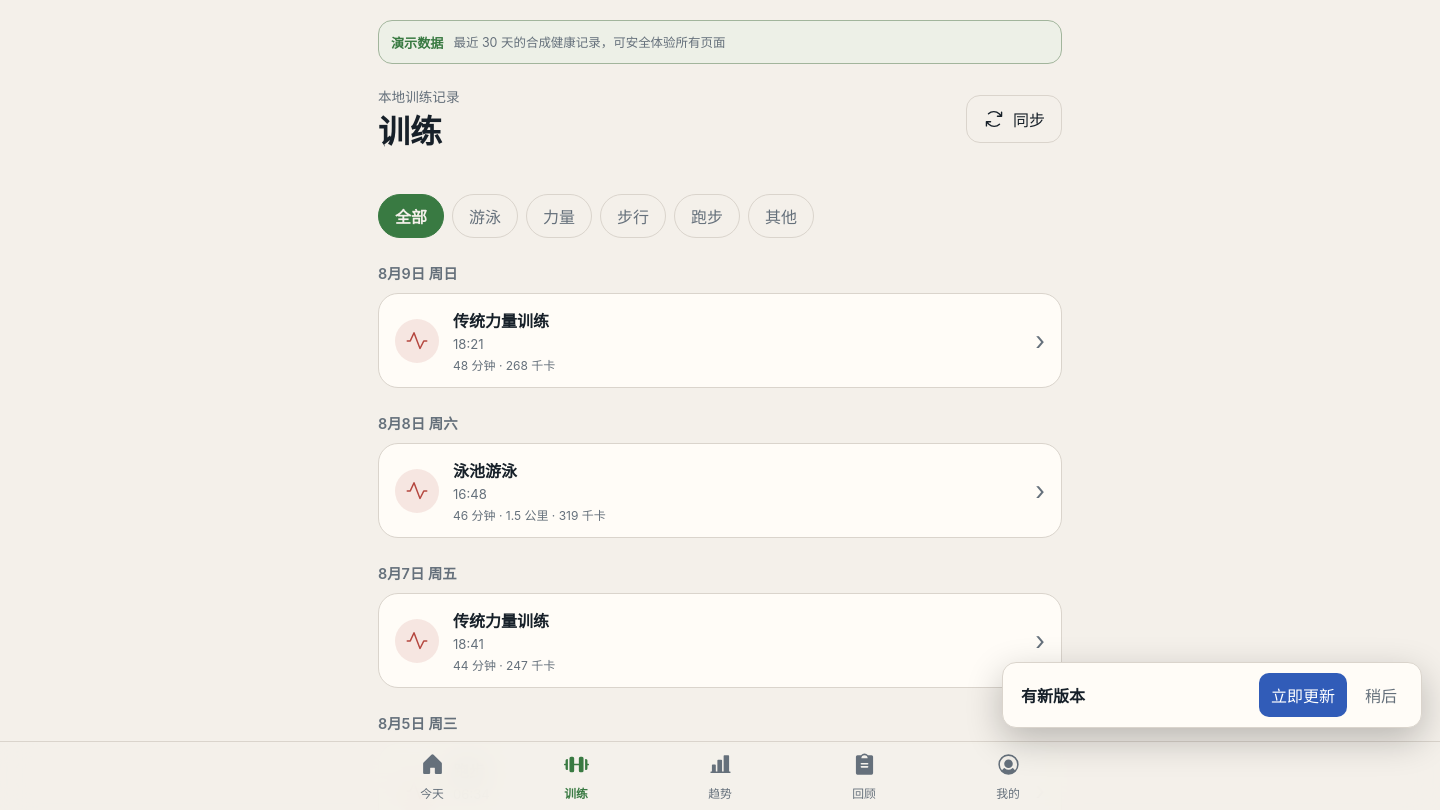
Scenario: uses real workout and trend destinations while keeping the five-tab shell
Click the button "今天": (432, 776) left=360, top=742, right=504, bottom=809
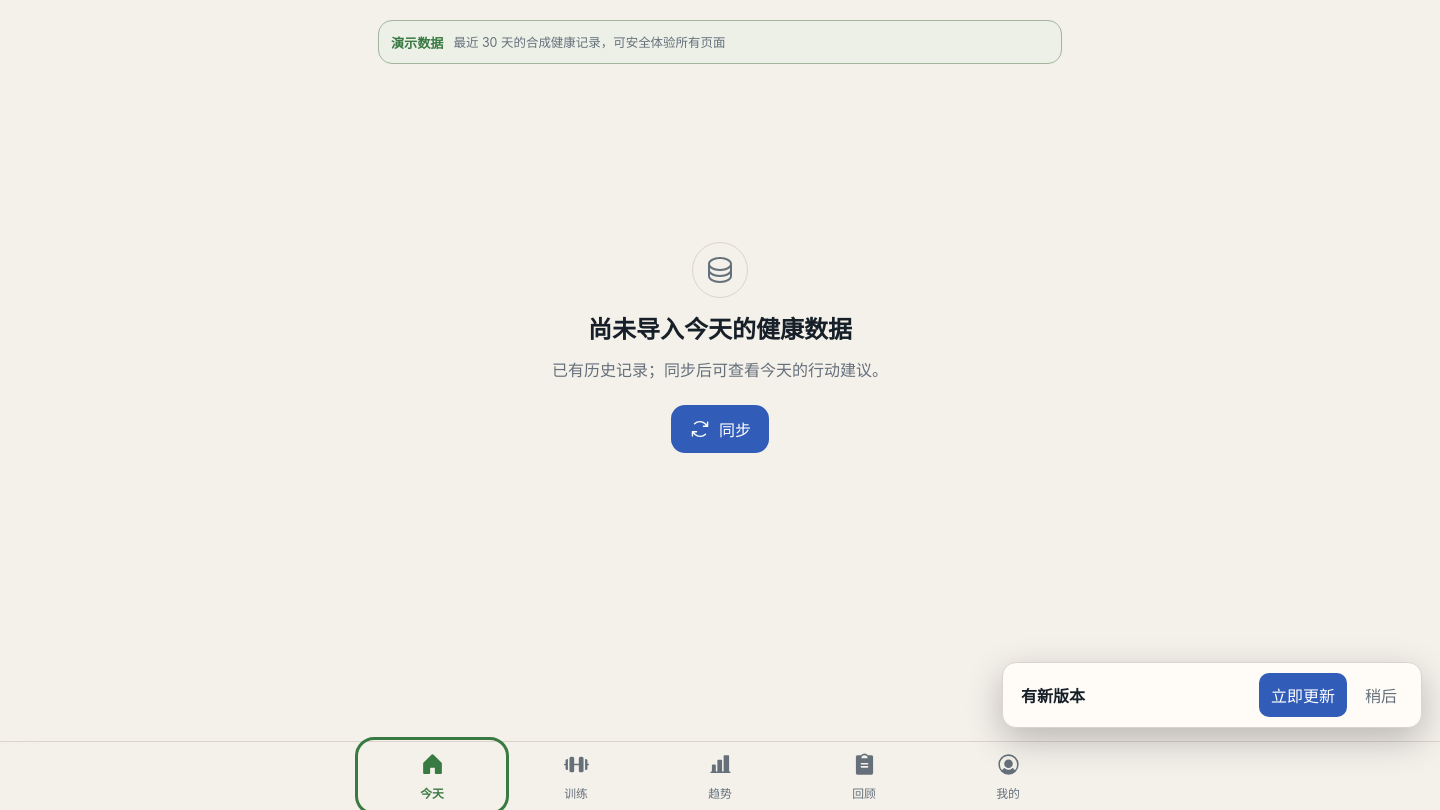
Expected: the number of navigation bars is 1, left=360, top=742, right=1080, bottom=809
Expected: the heading "尚未导入今天的健康数据" is shown, left=588, top=315, right=852, bottom=344
Click the button "训练": (576, 776) left=504, top=742, right=648, bottom=809
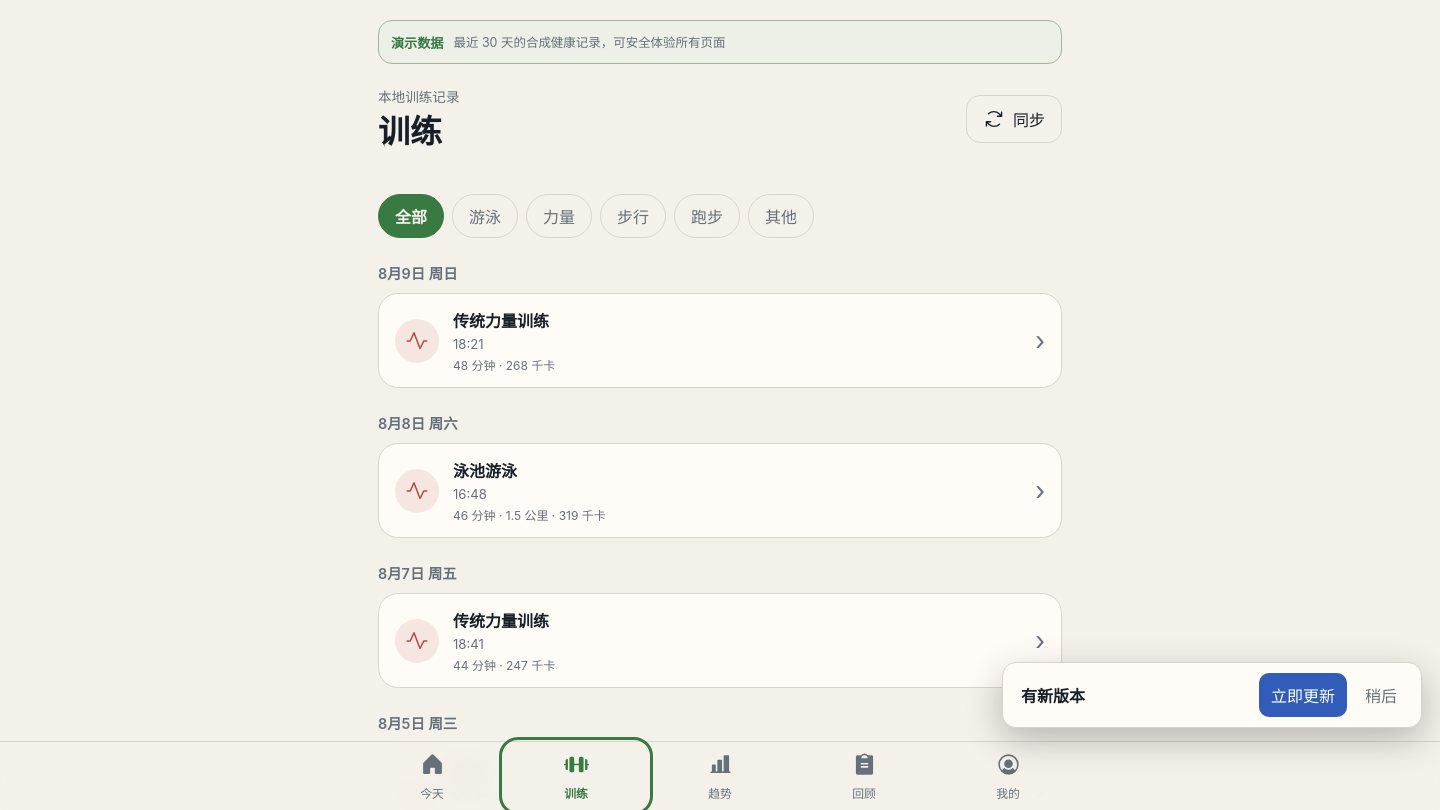
Expected: the button "游泳" is shown, left=452, top=194, right=518, bottom=238
Click the button "趋势": (720, 776) left=648, top=742, right=792, bottom=809
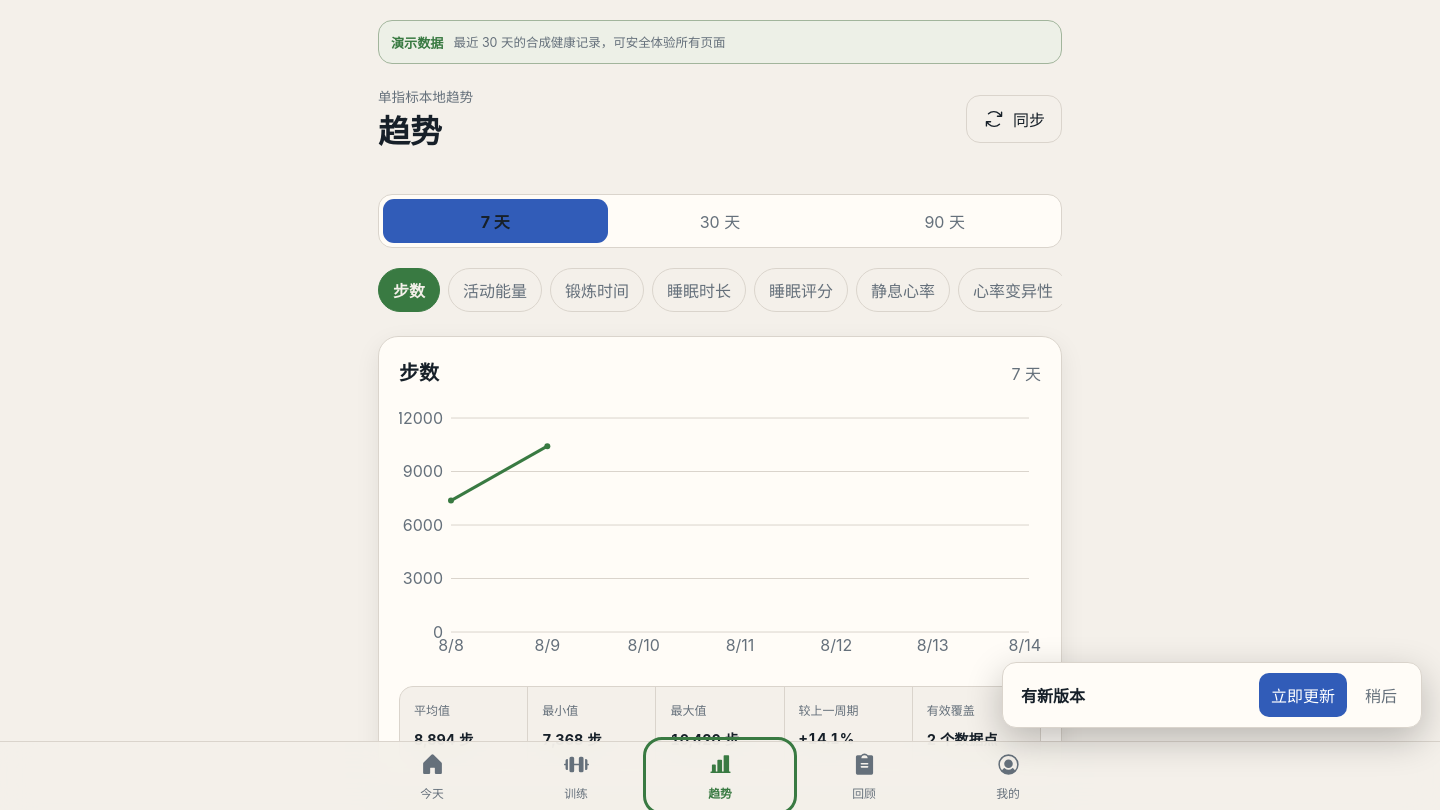
Expected: the button "30 天" is shown, left=608, top=199, right=832, bottom=243
